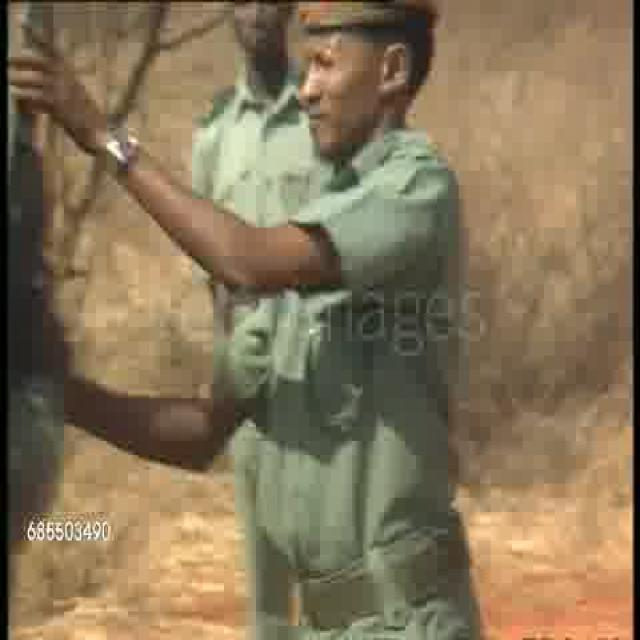poacher: (282, 2, 458, 596), (220, 2, 302, 190)
